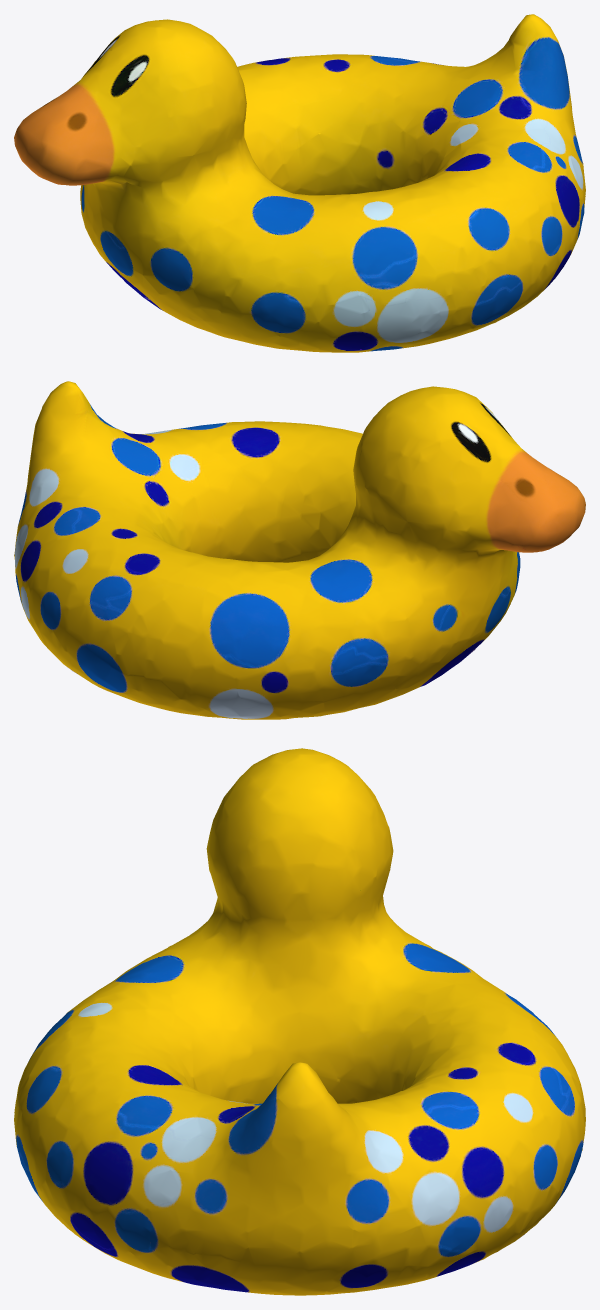
3 renders of one model, top to bottom at view 1: azimuth 30°, elevation 25°; view 2: azimuth 150°, elevation 25°; view 3: azimuth 270°, elevation 25°, orthographic. The views are drawn at different scales.
Visible parts, largest first — view 1: pMesh1; view 2: pMesh1; view 3: pMesh1.
Boxes of the visible parts, bbox=[...] form: pMesh1: bbox=[14, 14, 585, 352]; pMesh1: bbox=[14, 381, 585, 719]; pMesh1: bbox=[14, 748, 585, 1295].
Bounding box in the file's own units: 1.86 × 0.9742 × 1.46.
Materials: 1 (1 with a texture image).
